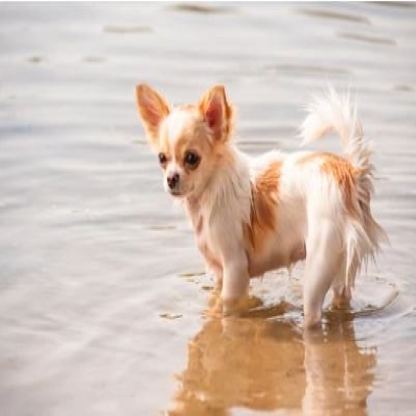chihuahua: (133, 81, 384, 333)
